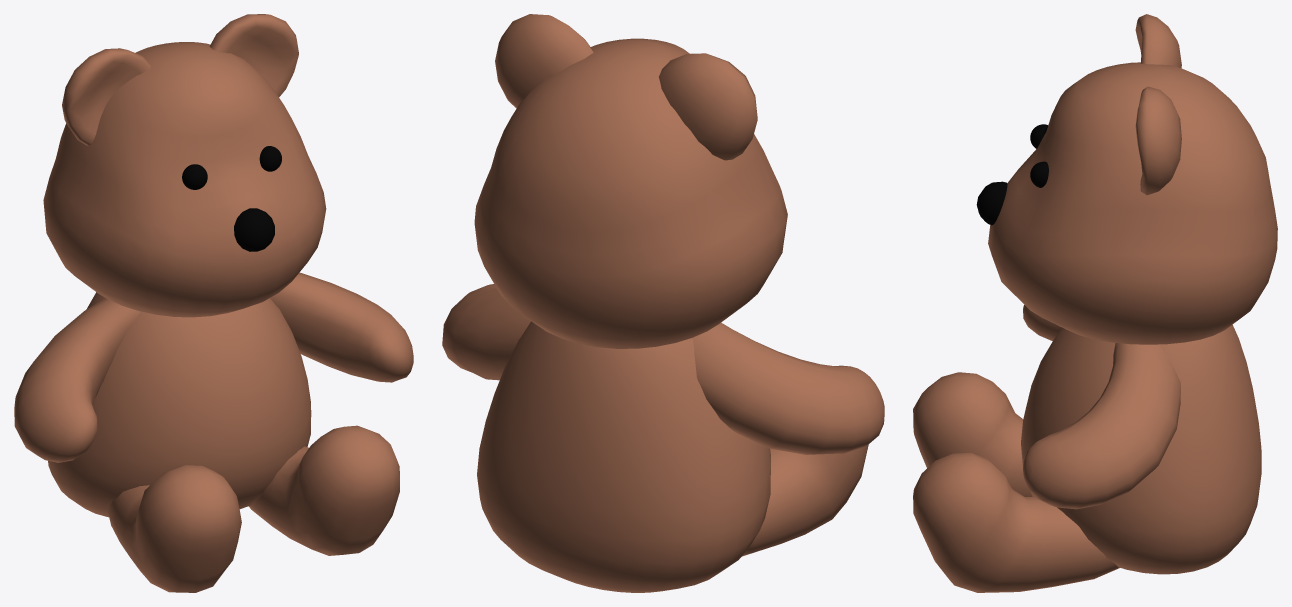
Rendered from x05_u3dtest.fbx.
3 views of the same model, side by side, from view 1: azimuth 30°, elevation 25°; view 2: azimuth 150°, elevation 25°; view 3: azimuth 270°, elevation 25° (orthographic). The views are drawn at different scales.
Parts seen in each view (by area): view 1: polySurface53, polySurface41; view 2: polySurface53; view 3: polySurface53, polySurface41.
Boxes of the visible parts, <box> form: polySurface53: <box>14,14,413,592</box>; polySurface41: <box>182,146,281,251</box>; polySurface53: <box>442,14,884,592</box>; polySurface53: <box>913,14,1277,592</box>; polySurface41: <box>976,124,1048,225</box>.
Size of the model in its own units: 19.88 by 24 by 16.01.
